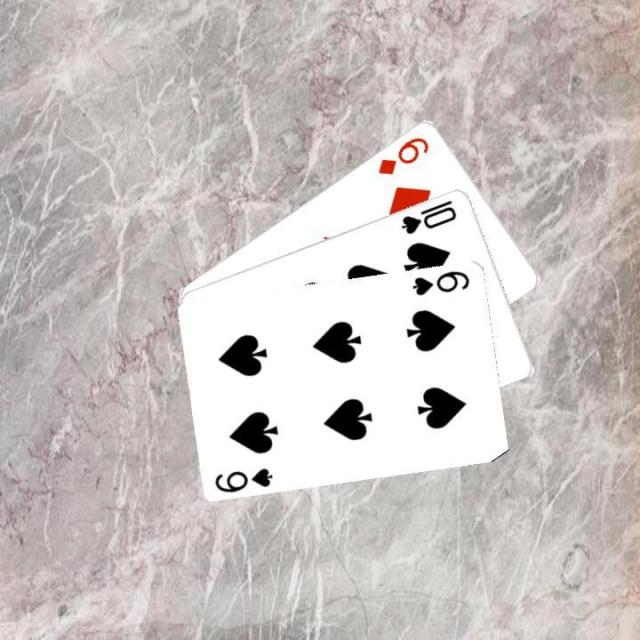10S: (397, 196, 459, 236)
6D: (374, 132, 431, 177)
6S: (408, 266, 472, 297), (212, 464, 274, 493)
